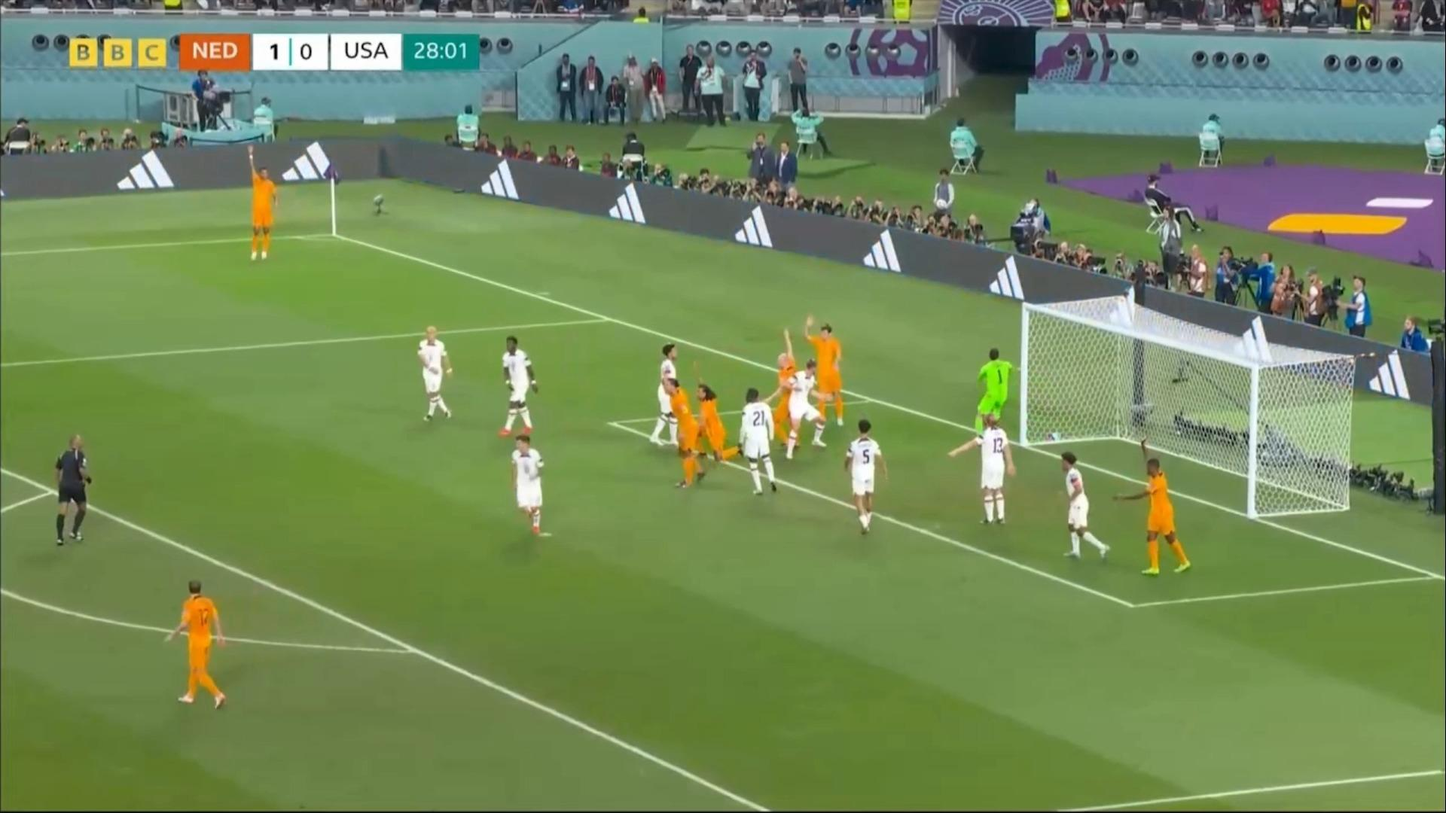Player: (1118, 436, 1190, 576), (169, 580, 230, 715), (947, 413, 1016, 532), (690, 355, 749, 466), (840, 418, 893, 537), (731, 384, 786, 494), (662, 367, 709, 492), (490, 333, 543, 442), (503, 435, 552, 546), (1060, 453, 1109, 564), (246, 143, 288, 264), (411, 324, 460, 427), (808, 320, 854, 428), (768, 330, 806, 449), (785, 360, 826, 454), (974, 348, 1013, 434), (650, 346, 684, 443), (763, 380, 802, 463)
Ref: (50, 434, 102, 554)
